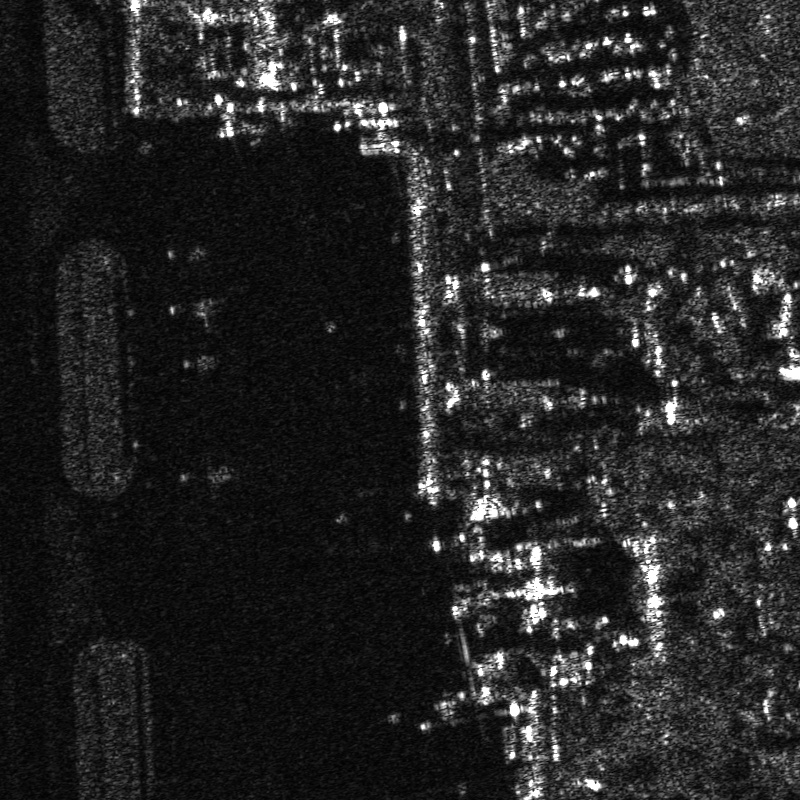ARJ21: (152, 286, 226, 332), (173, 346, 227, 378)
other: (172, 453, 237, 504), (159, 235, 213, 271)
